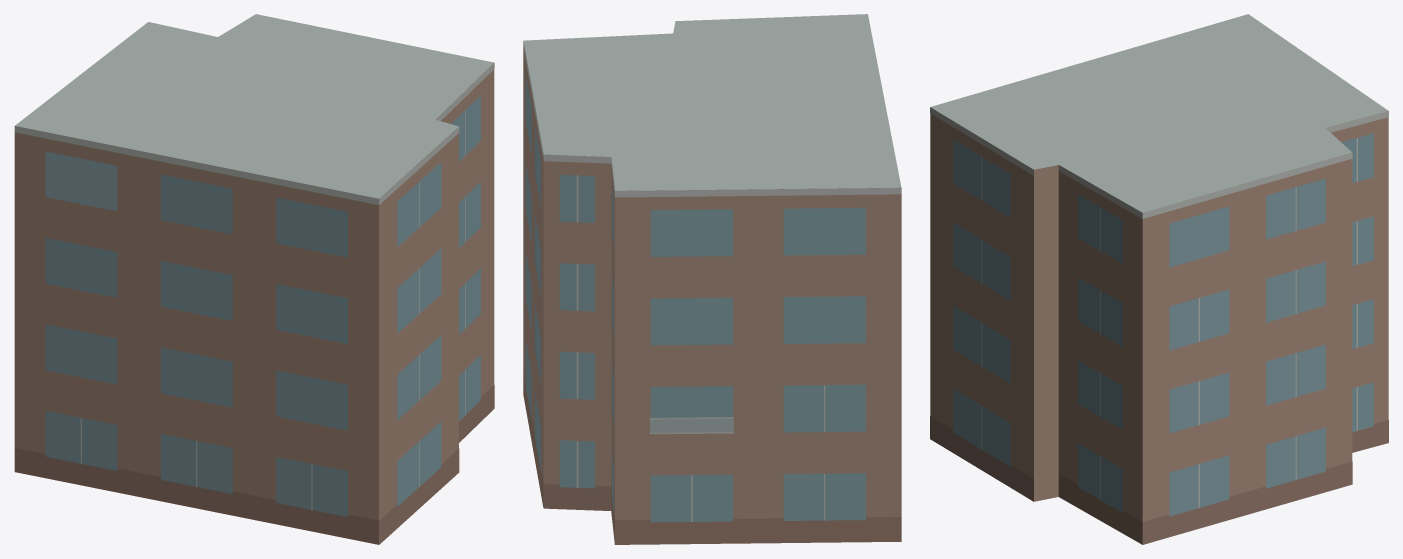
File: survey-upis-32810701.glb
The picture shows the model from 3 angles, left to right: view 1: azimuth 30°, elevation 25°; view 2: azimuth 150°, elevation 25°; view 3: azimuth 270°, elevation 25°; orthographic projection. The views are drawn at different scales.
Parts seen in each view (by area): view 1: survey-upis-32810701.tmp; view 2: survey-upis-32810701.tmp; view 3: survey-upis-32810701.tmp.
Part boxes in pixels (left/top/right/bottom): survey-upis-32810701.tmp: left=14, top=14, right=494, bottom=544; survey-upis-32810701.tmp: left=523, top=14, right=901, bottom=544; survey-upis-32810701.tmp: left=930, top=14, right=1388, bottom=544.
Bounding box in the file's own units: 16.83 × 13.1 × 16.41.
